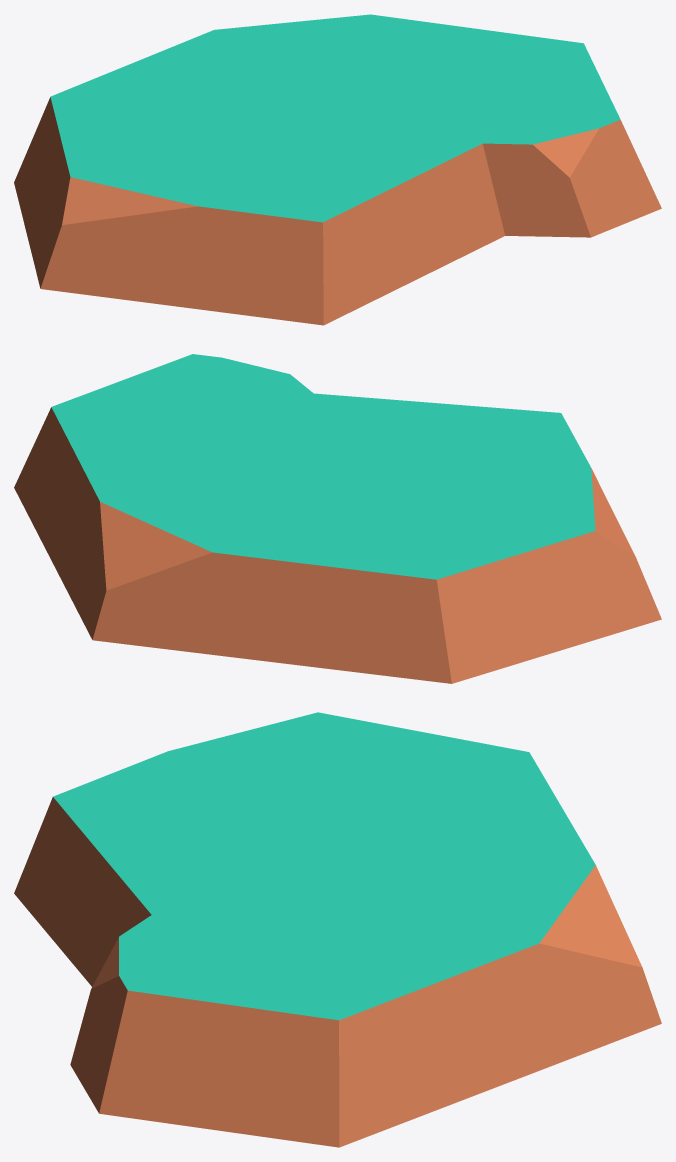
File: rock_smallFlatC.dae
3 renders of one model, top to bottom at view 1: azimuth 30°, elevation 25°; view 2: azimuth 150°, elevation 25°; view 3: azimuth 270°, elevation 25°, orthographic. The views are drawn at different scales.
Parts seen in each view (by area): view 1: rock_smallFlatC; view 2: rock_smallFlatC; view 3: rock_smallFlatC.
Boxes of the visible parts, x1,y1,x2,y2 form: rock_smallFlatC: (14, 14, 661, 325); rock_smallFlatC: (14, 354, 661, 683); rock_smallFlatC: (14, 712, 661, 1147).
Bounding box in the file's own units: 0.4704 × 0.0649 × 0.3603.
